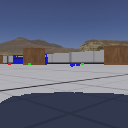blue_basket: (13, 54, 48, 64)
blue_cube: (69, 62, 76, 67), (75, 62, 80, 66)
green_cube: (27, 62, 32, 66), (80, 62, 84, 65)
obstacle: (104, 44, 127, 66), (23, 48, 45, 65), (1, 54, 3, 64)
red_cube: (7, 62, 11, 65), (3, 62, 5, 65)
